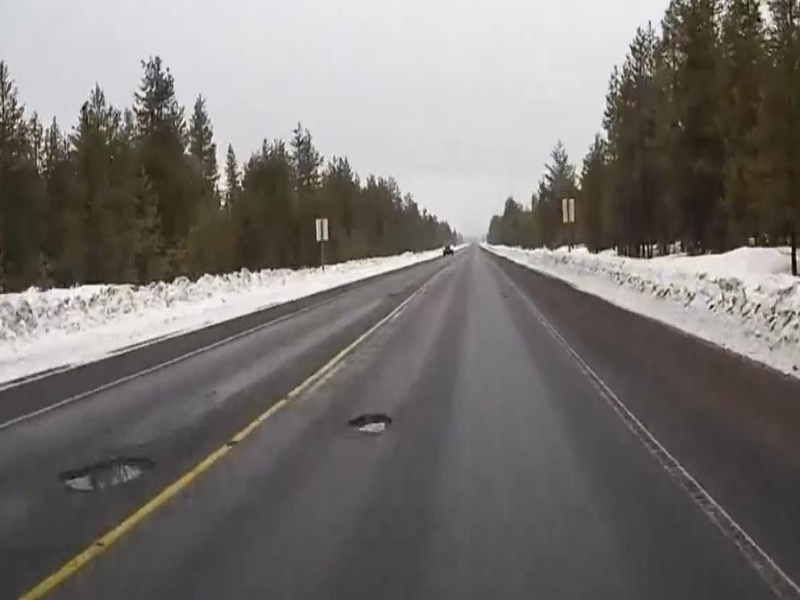pothole: (54, 457, 150, 495), (347, 410, 391, 440)
